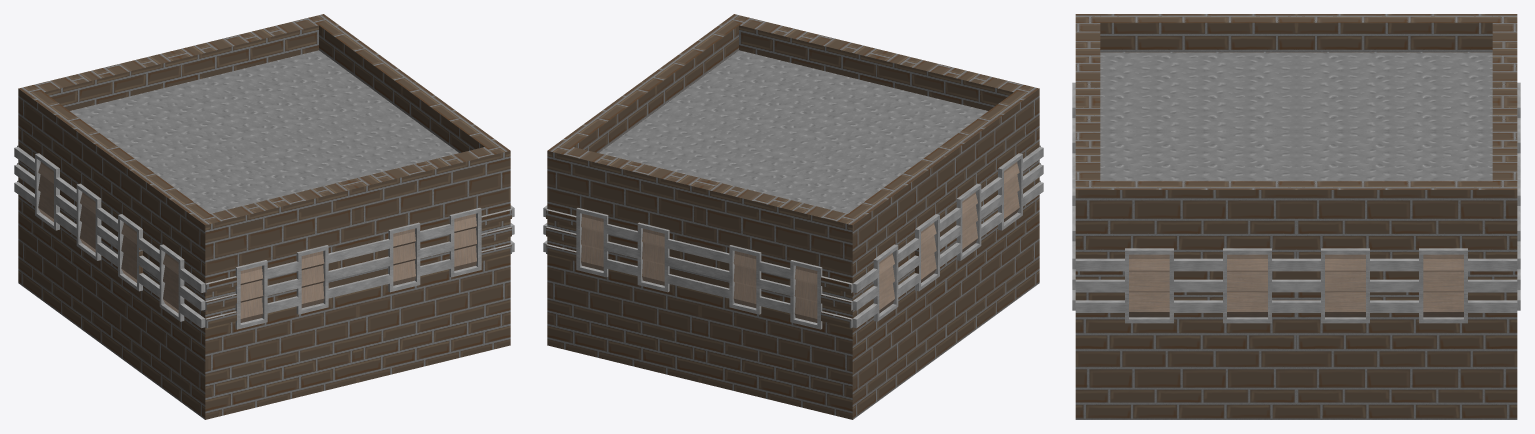
File: top.fbx
The picture shows the model from 3 angles, left to right: view 1: azimuth 30°, elevation 25°; view 2: azimuth 150°, elevation 25°; view 3: azimuth 270°, elevation 25°; orthographic projection. The views are drawn at different scales.
Visible parts, largest first — view 1: top; view 2: top; view 3: top.
Boxes of the visible parts, left/top/right/bottom form: top: left=14, top=14, right=514, bottom=419; top: left=543, top=14, right=1043, bottom=419; top: left=1072, top=14, right=1520, bottom=419.
Bounding box in the file's own units: 535 × 317 × 561.
